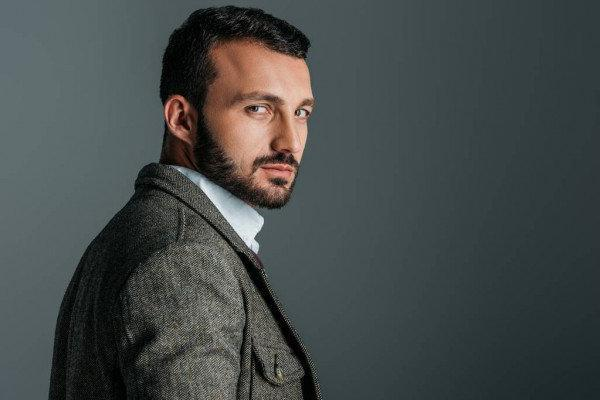Sober: (216, 54, 309, 196)
